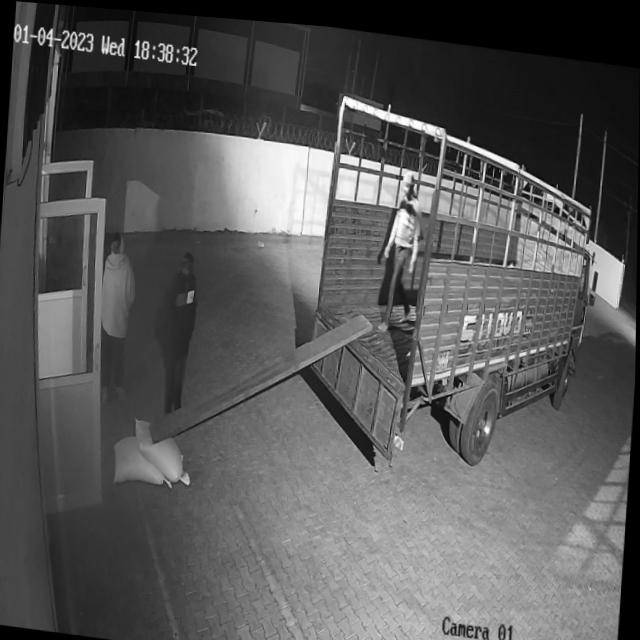sack: (132, 414, 194, 482), (112, 431, 177, 488)
